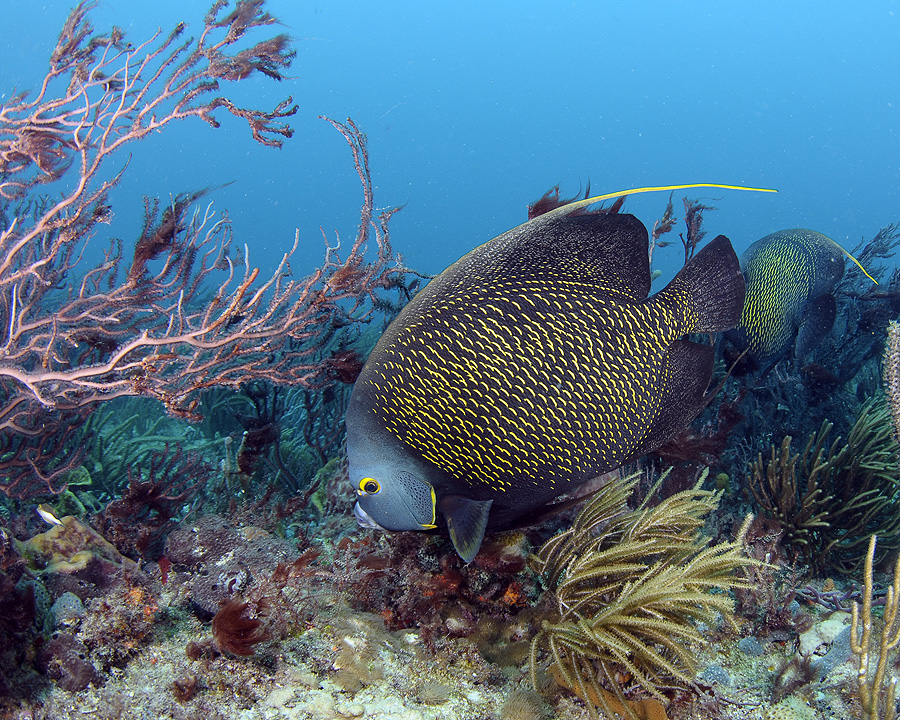Pomacanthus_paru: (324, 163, 780, 558)
